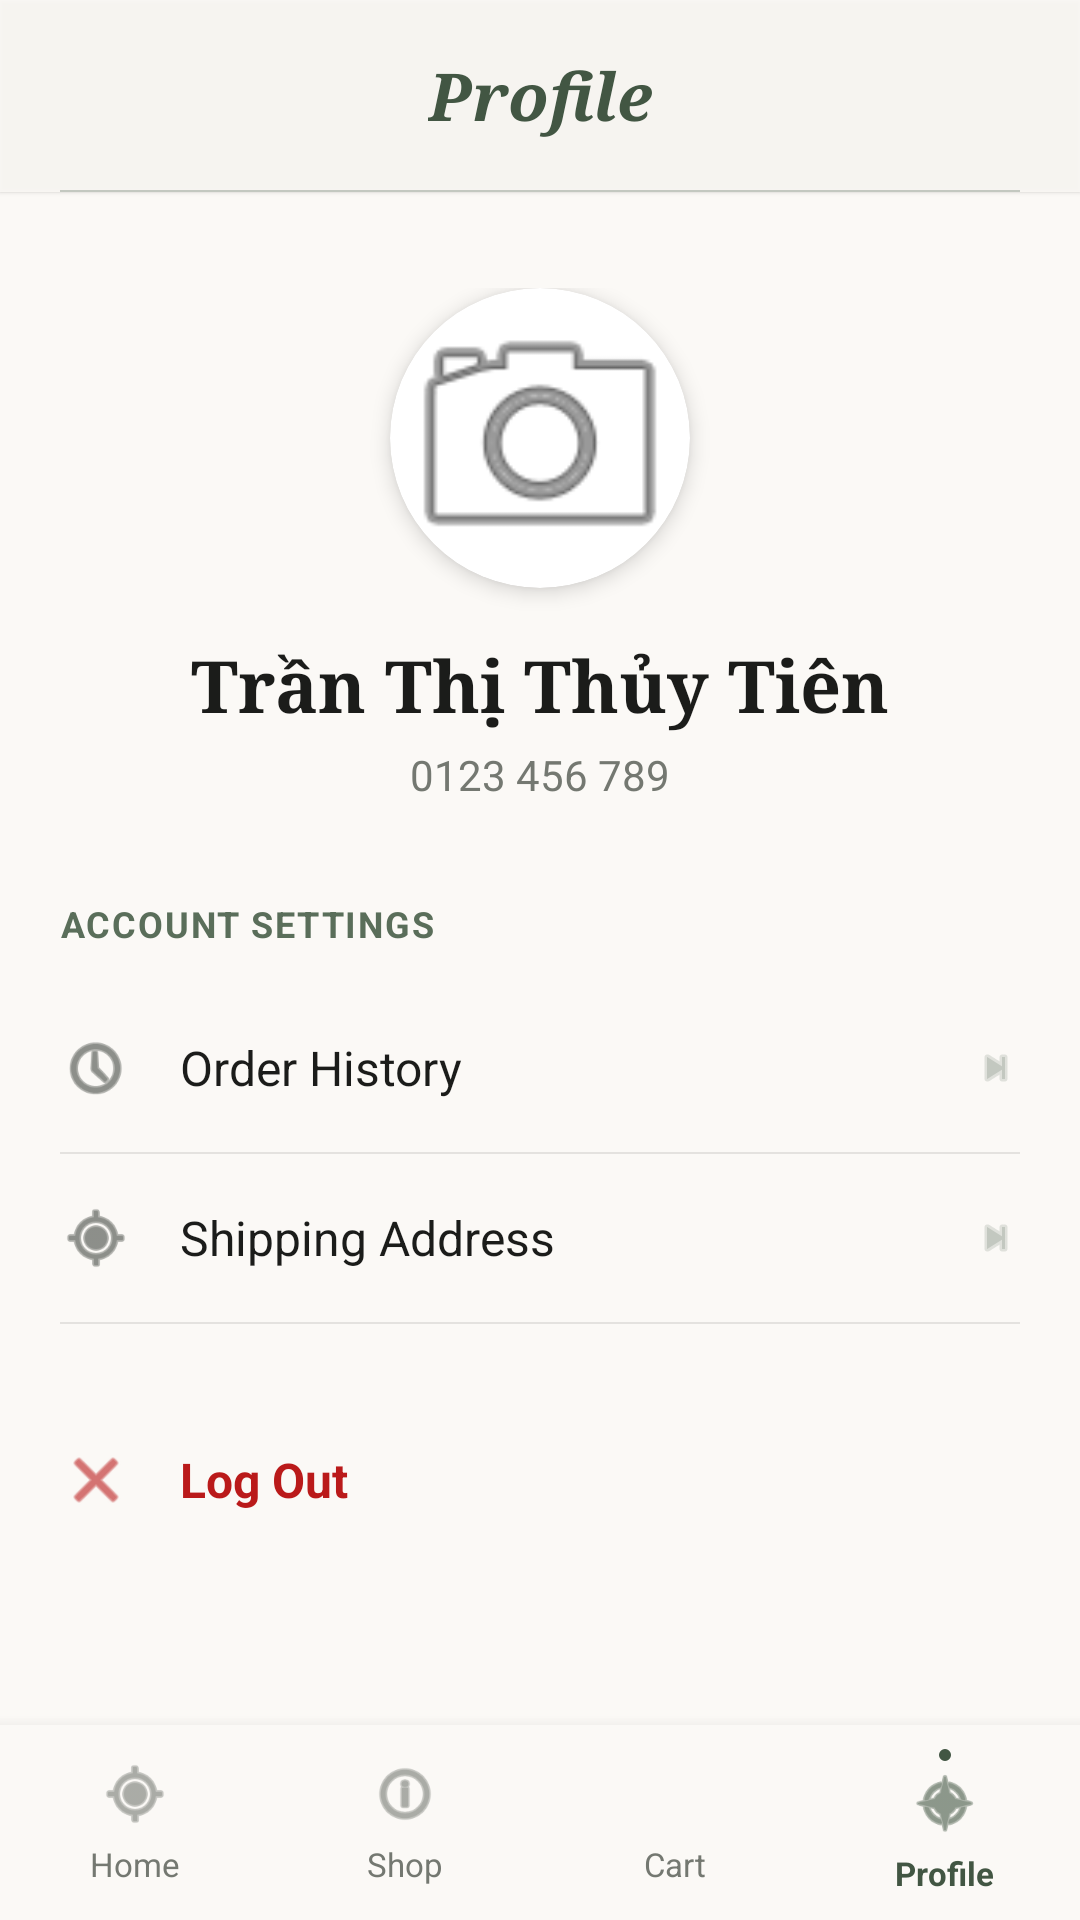

Icon click points for this 1080w x 1920h phone screenshot, format (x,y):
camera: (540,438)
close clear cancel: (96,1480)
info details: (405,1794)
mylocation: (96,1238), (135,1794)
next: (996,1068), (996,1238)
recent history: (96,1068)
